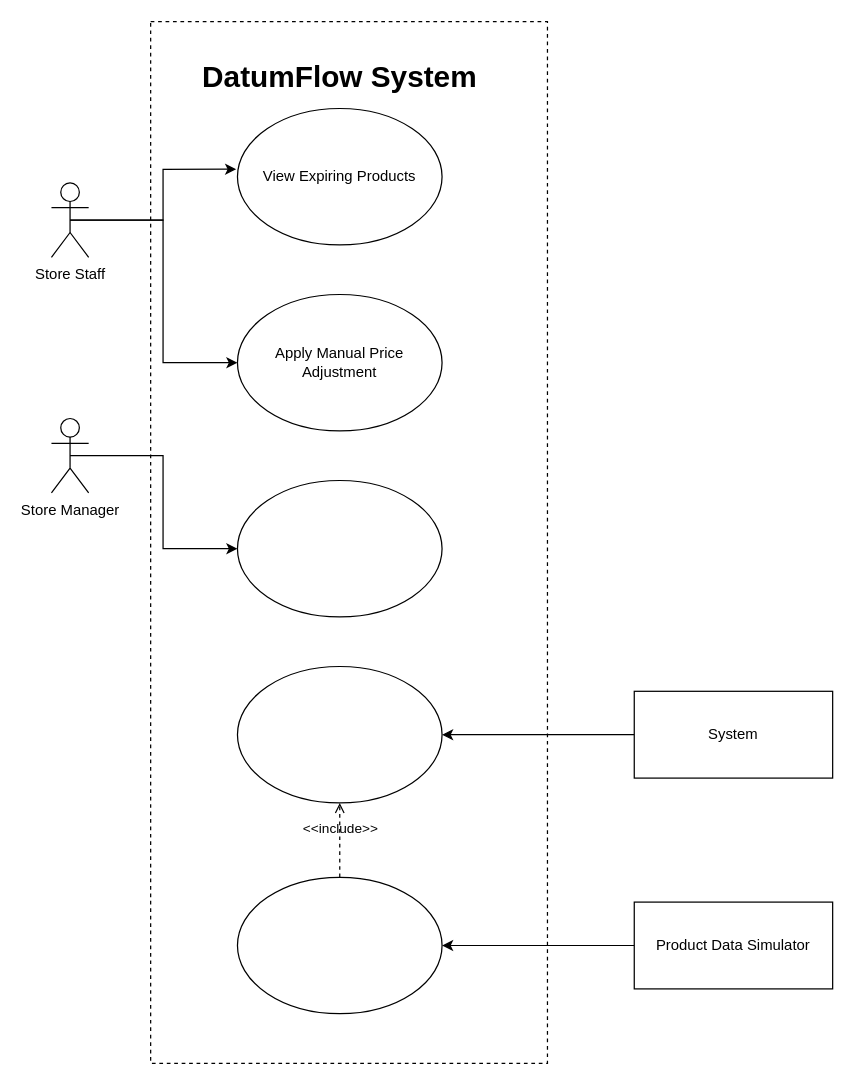
The diagram is 854 pixels wide and 1085 high, and some of its shapes have lost their labels. Each missing label, with the centre of its shape:
"Generate Price Suggestions" belongs at pixel 339 734.
"Simulate Product Data" belongs at pixel 339 945.
"View Dashboard Statistics" belongs at pixel 339 548.
